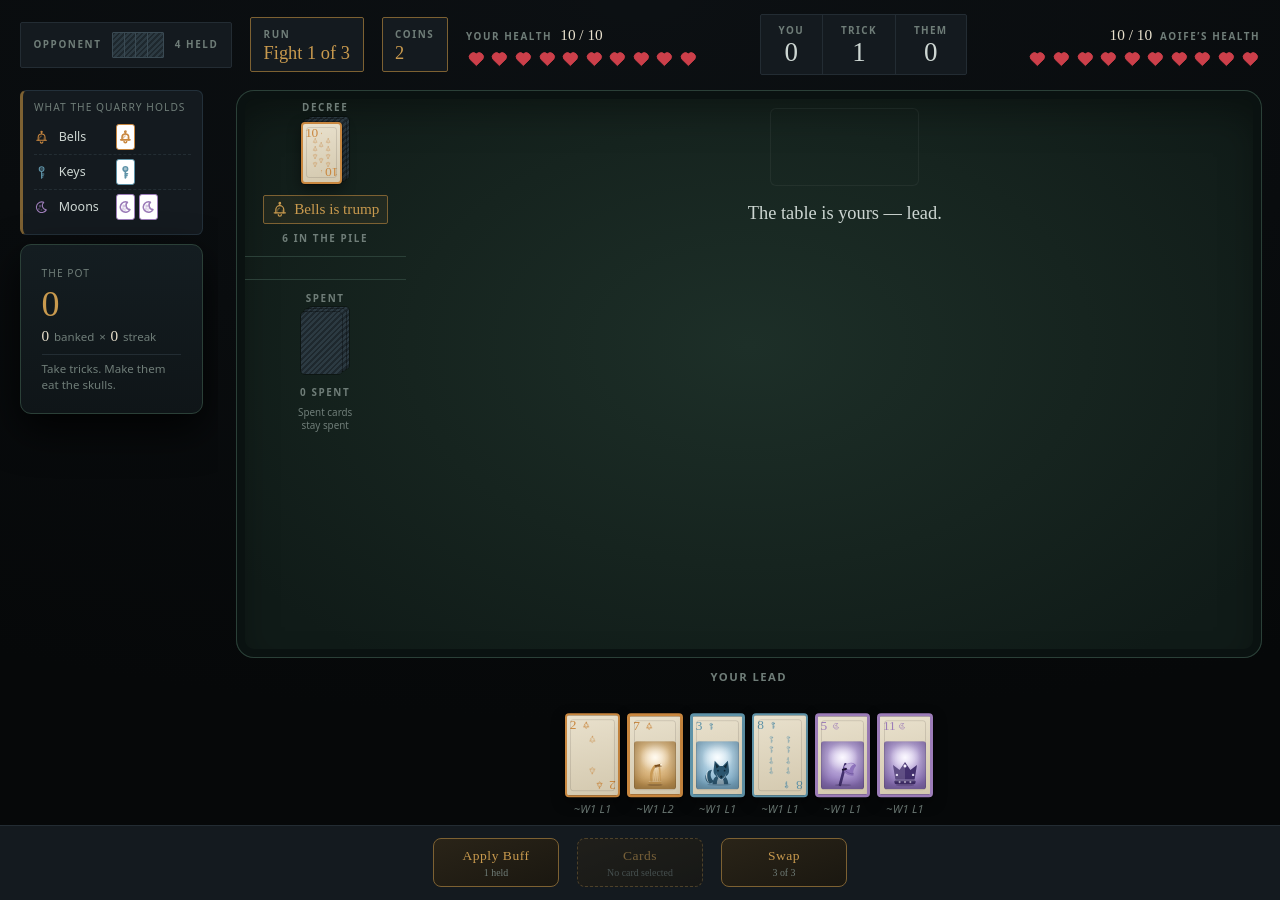
it: WarCouncilRound — the action bar (DLR-114) › clicking Apply Buff opens the "Your buffs" dialog, revealing the Cheat row in buffLine grammar
Click the button "Apply Buff 1 held" at (496, 863), box [433,838,559,887]
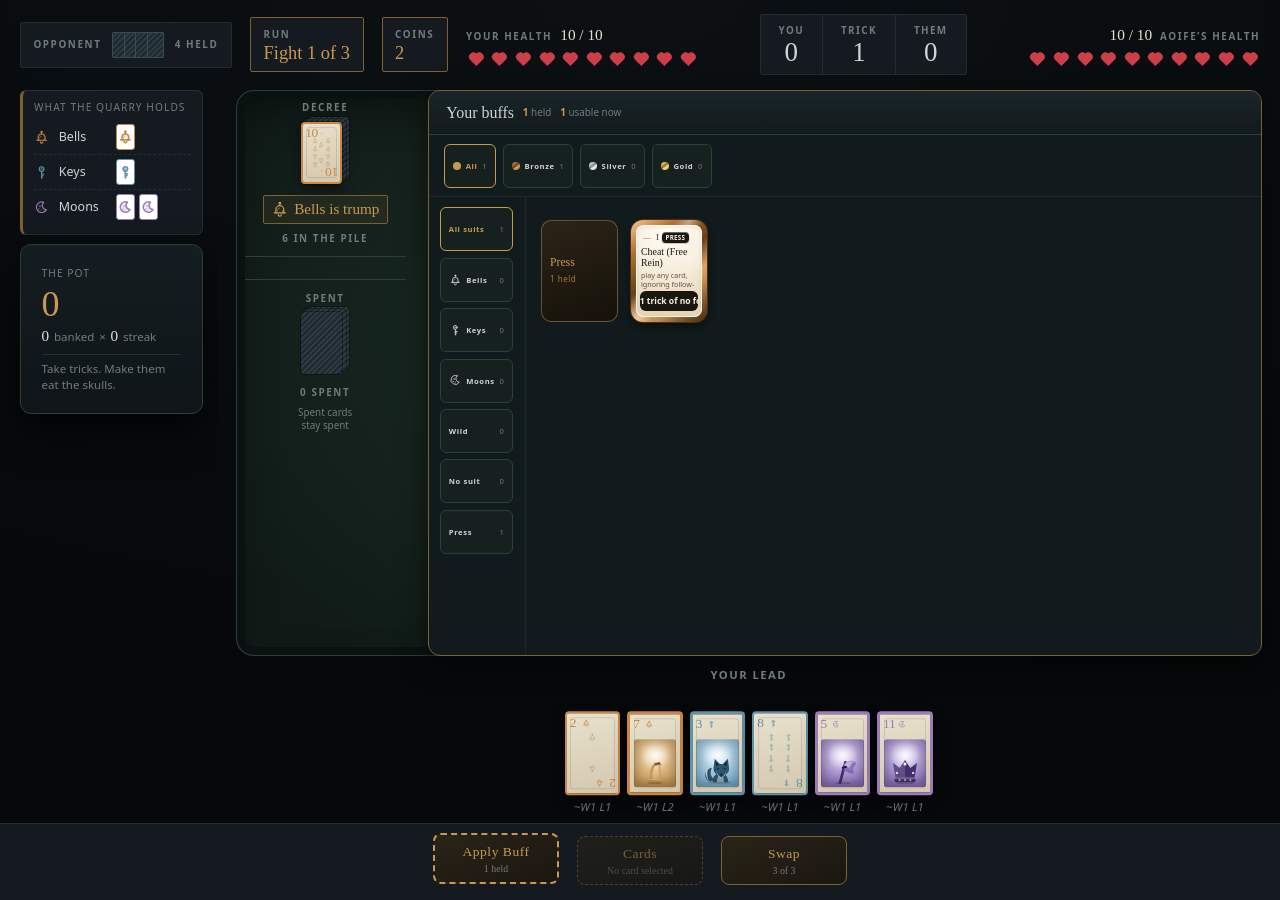
Result: the button "Cheat (" is shown at [631,220,707,322]
